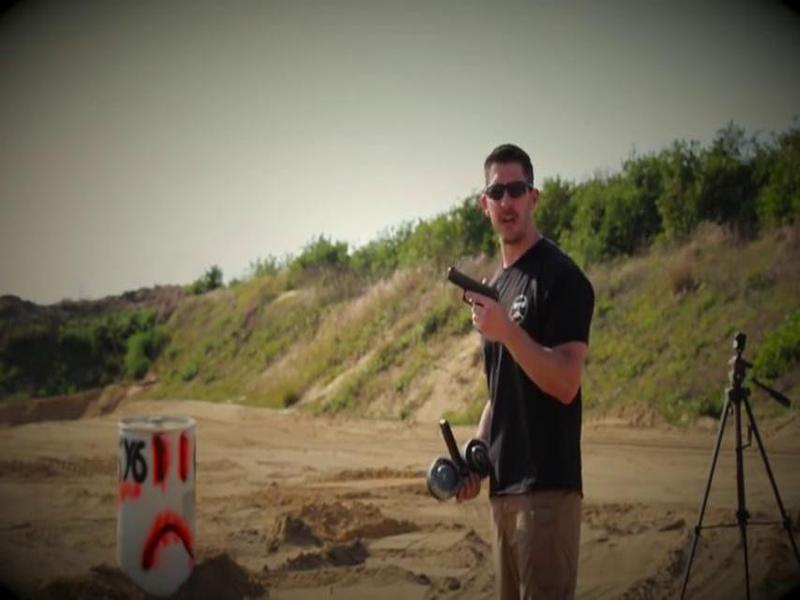Pistola: (430, 264, 514, 331)
